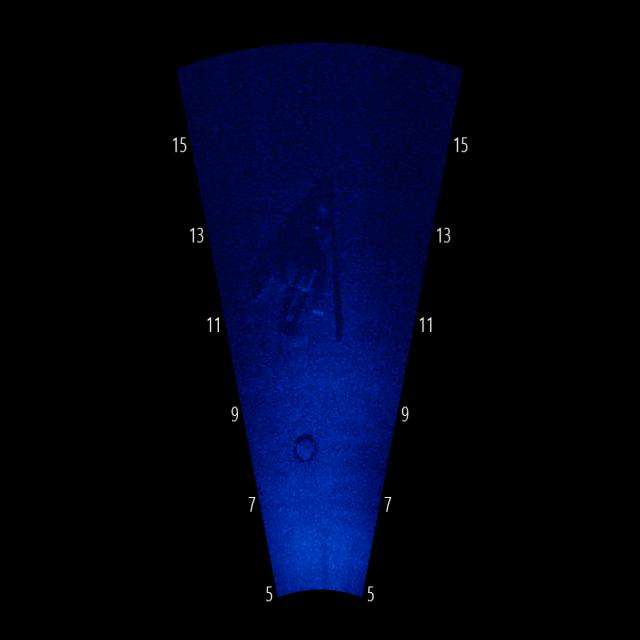triangle: (233, 172, 359, 348)
